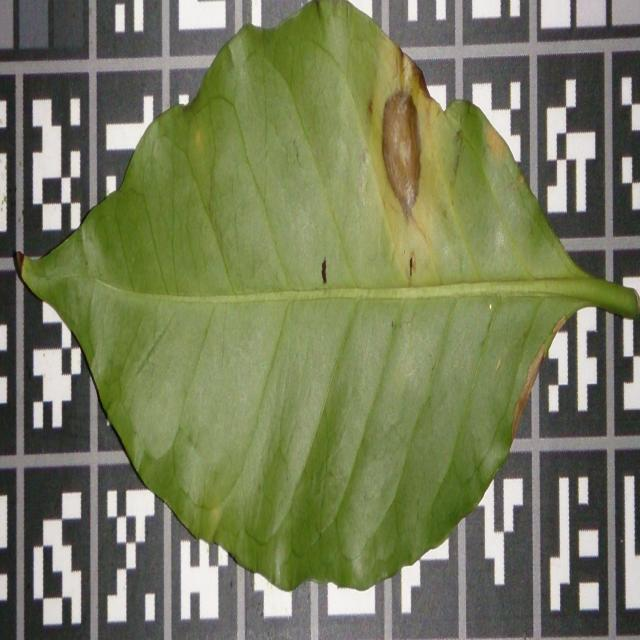Enfermedad-Mancha-de-hierro: (18, 8, 640, 596)
